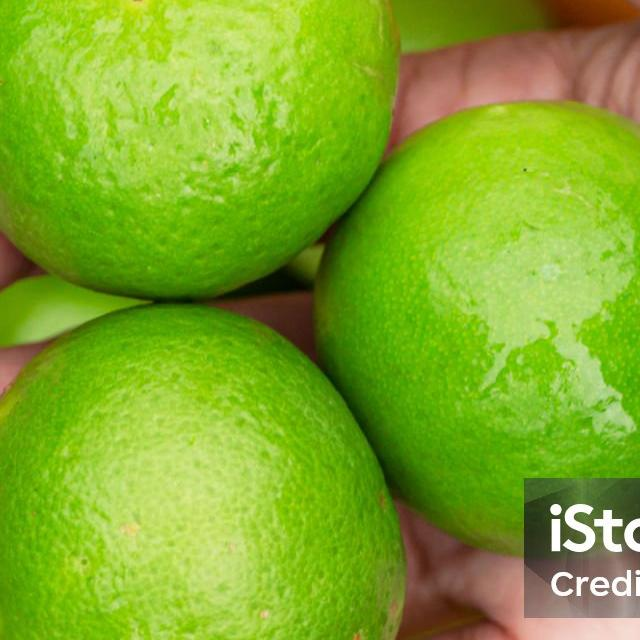lime: (314, 102, 640, 554), (0, 308, 415, 640)
